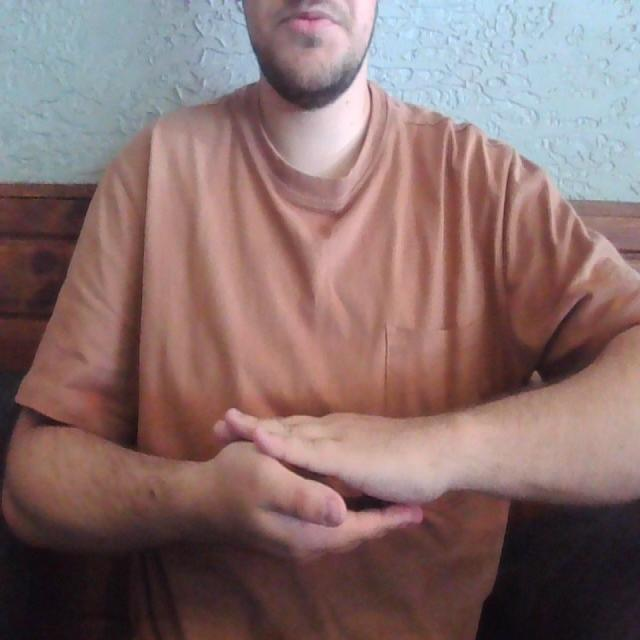Arkadas: (57, 394, 519, 568)
